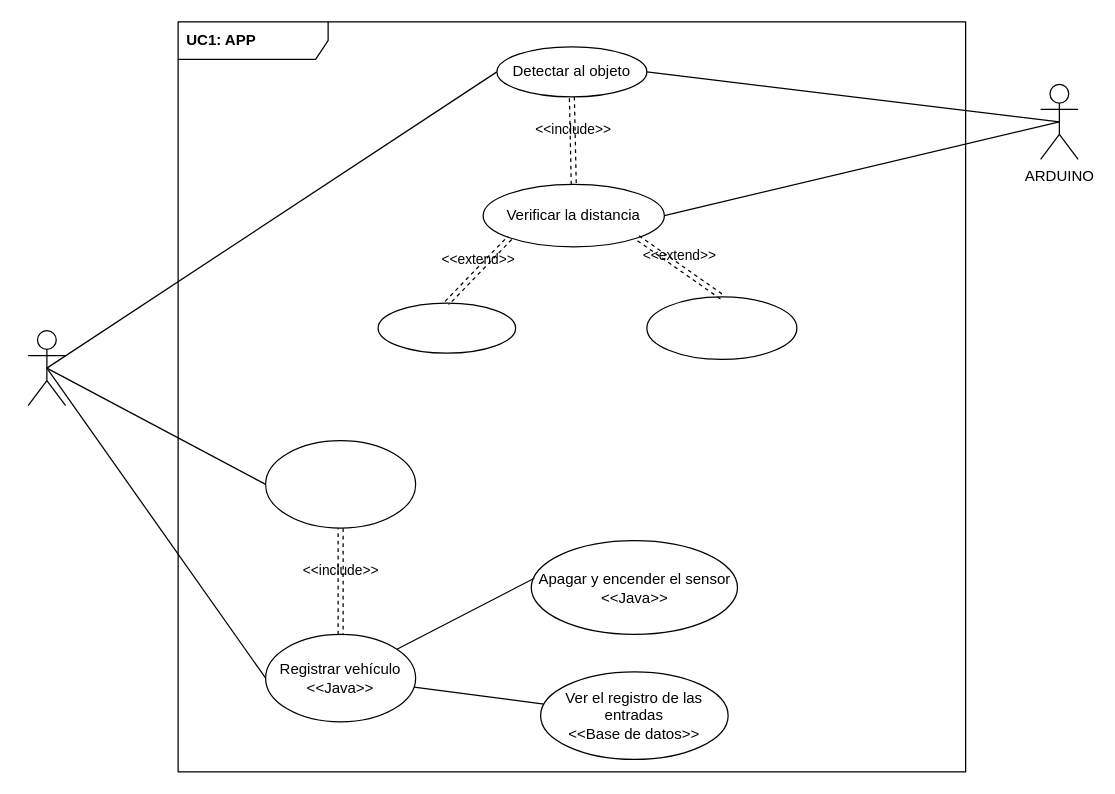
Image size: 1115x794. Some labels were removed from this diagram. The centre of each missing label's shape, as x and y in pixels:
Abrir la puerta: pixel 446 327
Mantener la puerta cerrada: pixel 721 327
Usuario: pixel 46 367
Validar Registro <<Java>>: pixel 340 483
